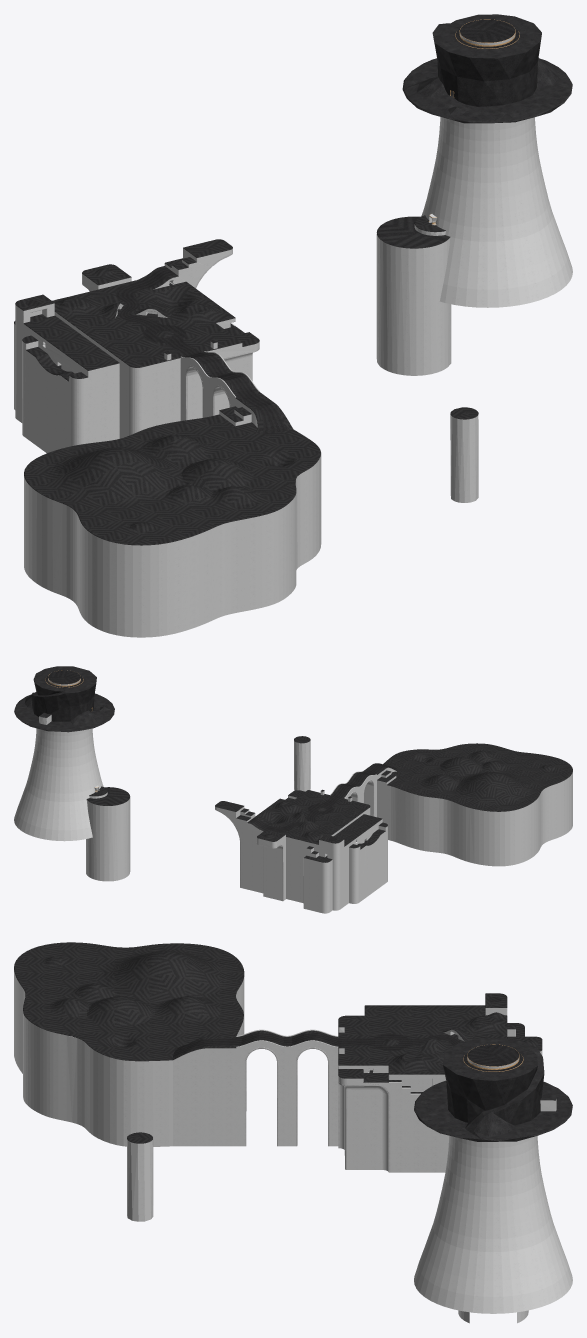
The model's file is CapWorldGround000.obj.
3 renders of one model, top to bottom at view 1: azimuth 30°, elevation 25°; view 2: azimuth 150°, elevation 25°; view 3: azimuth 270°, elevation 25°, orthographic. The views are drawn at different scales.
Visible parts, largest first — view 1: Ground_meshId2_name.001; view 2: Ground_meshId2_name.001; view 3: Ground_meshId2_name.001.
Part boxes in pixels (x1,y1,x2,y2): Ground_meshId2_name.001: (14, 14, 572, 637); Ground_meshId2_name.001: (14, 666, 572, 913); Ground_meshId2_name.001: (14, 942, 572, 1323).
Size of the model in its own units: 34275 by 14602 by 25466.
